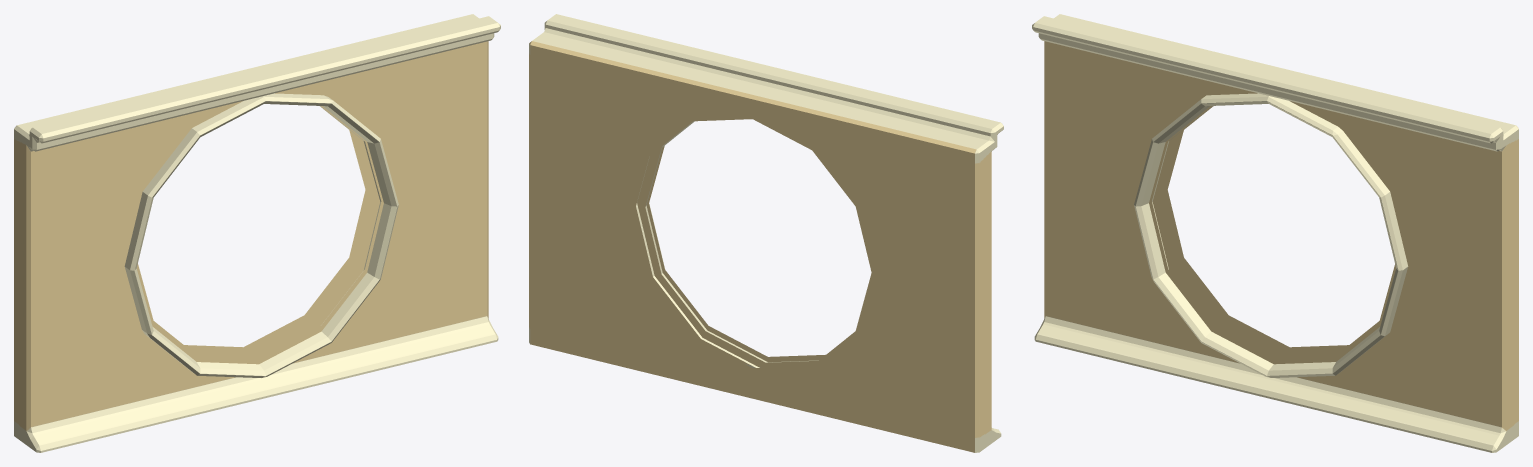
File: ParedeJanelaCircular.fbx
3 renders of one model, left to right at view 1: azimuth 30°, elevation 25°; view 2: azimuth 150°, elevation 25°; view 3: azimuth 330°, elevation 25°, orthographic. The views are drawn at different scales.
Visible parts, largest first — view 1: ParedeJanelaCircular; view 2: ParedeJanelaCircular; view 3: ParedeJanelaCircular.
Part boxes in pixels (x1,y1,x2,y2): ParedeJanelaCircular: (14, 14, 500, 452); ParedeJanelaCircular: (529, 14, 1003, 452); ParedeJanelaCircular: (1032, 14, 1518, 452).
Size of the model in its own units: 1600 by 1057 by 169.
